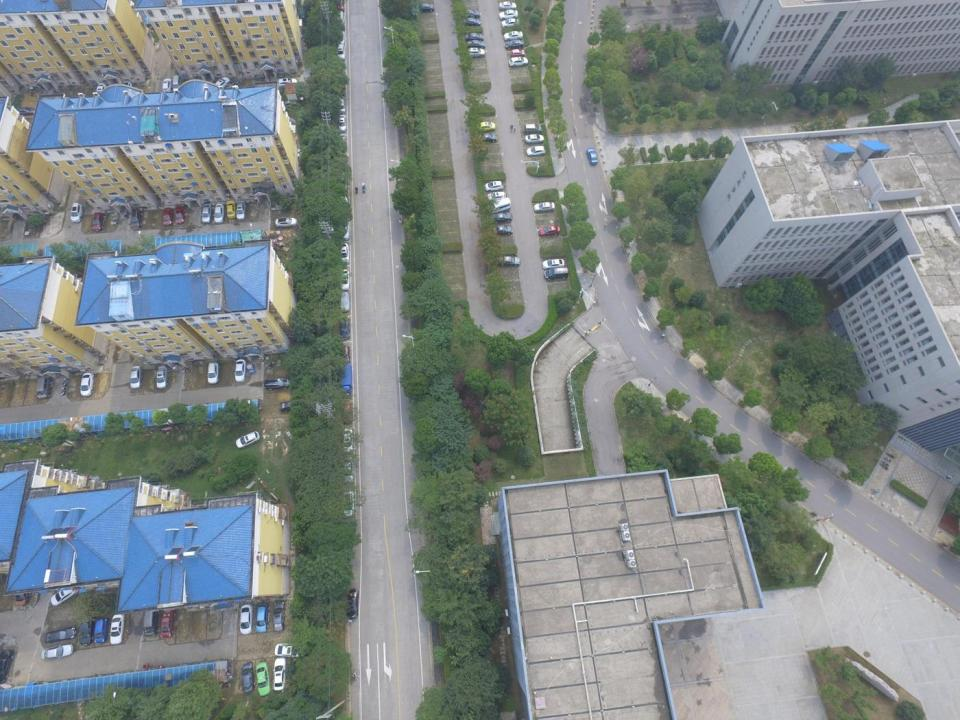car: (50, 584, 80, 607), (41, 643, 74, 660), (255, 662, 271, 696), (44, 626, 76, 642), (273, 642, 304, 658), (272, 657, 287, 690), (0, 649, 15, 682), (109, 614, 125, 644), (79, 614, 94, 646), (255, 602, 269, 634), (239, 604, 253, 635), (78, 372, 95, 397), (160, 608, 174, 638), (241, 661, 254, 693), (14, 580, 30, 606), (346, 588, 359, 619), (235, 432, 260, 448), (93, 618, 108, 643), (263, 377, 291, 390), (273, 601, 284, 632), (129, 365, 143, 389), (156, 365, 169, 389), (343, 491, 355, 516), (207, 361, 220, 384), (212, 203, 226, 224), (70, 202, 84, 223), (338, 268, 350, 292), (343, 458, 354, 484), (234, 359, 246, 382), (343, 428, 354, 453), (497, 256, 521, 267), (342, 400, 353, 424), (274, 217, 298, 228), (490, 212, 513, 223), (92, 212, 105, 231), (538, 225, 560, 236), (533, 201, 555, 212), (338, 345, 350, 365), (340, 316, 350, 340), (174, 204, 186, 224), (200, 204, 212, 224), (214, 76, 230, 91), (130, 209, 142, 229), (223, 80, 241, 93), (278, 401, 299, 412), (339, 291, 350, 312), (508, 56, 528, 67), (498, 9, 518, 20), (465, 47, 485, 58), (162, 206, 173, 226), (278, 77, 298, 88), (339, 243, 349, 264), (339, 219, 349, 240), (338, 196, 348, 217), (484, 181, 503, 192), (235, 201, 246, 220), (586, 148, 598, 165), (526, 146, 546, 156), (524, 134, 544, 144), (476, 121, 496, 131), (542, 259, 564, 268), (478, 133, 497, 143), (505, 39, 524, 49), (416, 3, 435, 13), (172, 74, 182, 93), (524, 123, 542, 133), (504, 31, 524, 40), (500, 18, 520, 27), (499, 0, 517, 10), (334, 11, 344, 29), (461, 9, 480, 18), (465, 32, 484, 41), (492, 226, 513, 234), (465, 40, 486, 48), (462, 17, 480, 26), (226, 200, 235, 218), (487, 192, 506, 200), (338, 134, 346, 153), (338, 115, 346, 132), (337, 44, 345, 60), (162, 78, 171, 92), (97, 82, 106, 96), (338, 98, 346, 113), (336, 30, 344, 45), (123, 82, 132, 94), (510, 49, 525, 56), (337, 0, 345, 11)
truck: (338, 363, 352, 396)
van: (143, 606, 158, 637), (488, 197, 511, 213), (36, 376, 52, 399), (544, 267, 569, 280)
